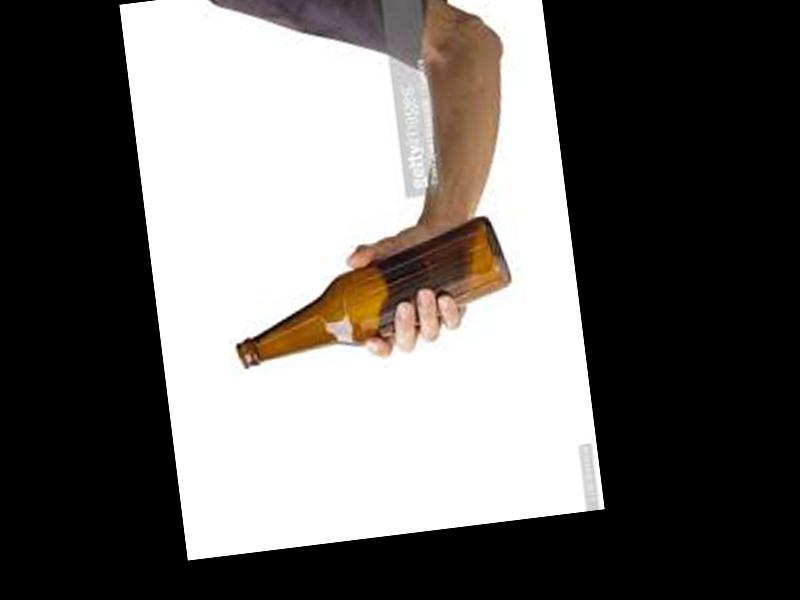Beer: (225, 211, 516, 369)
